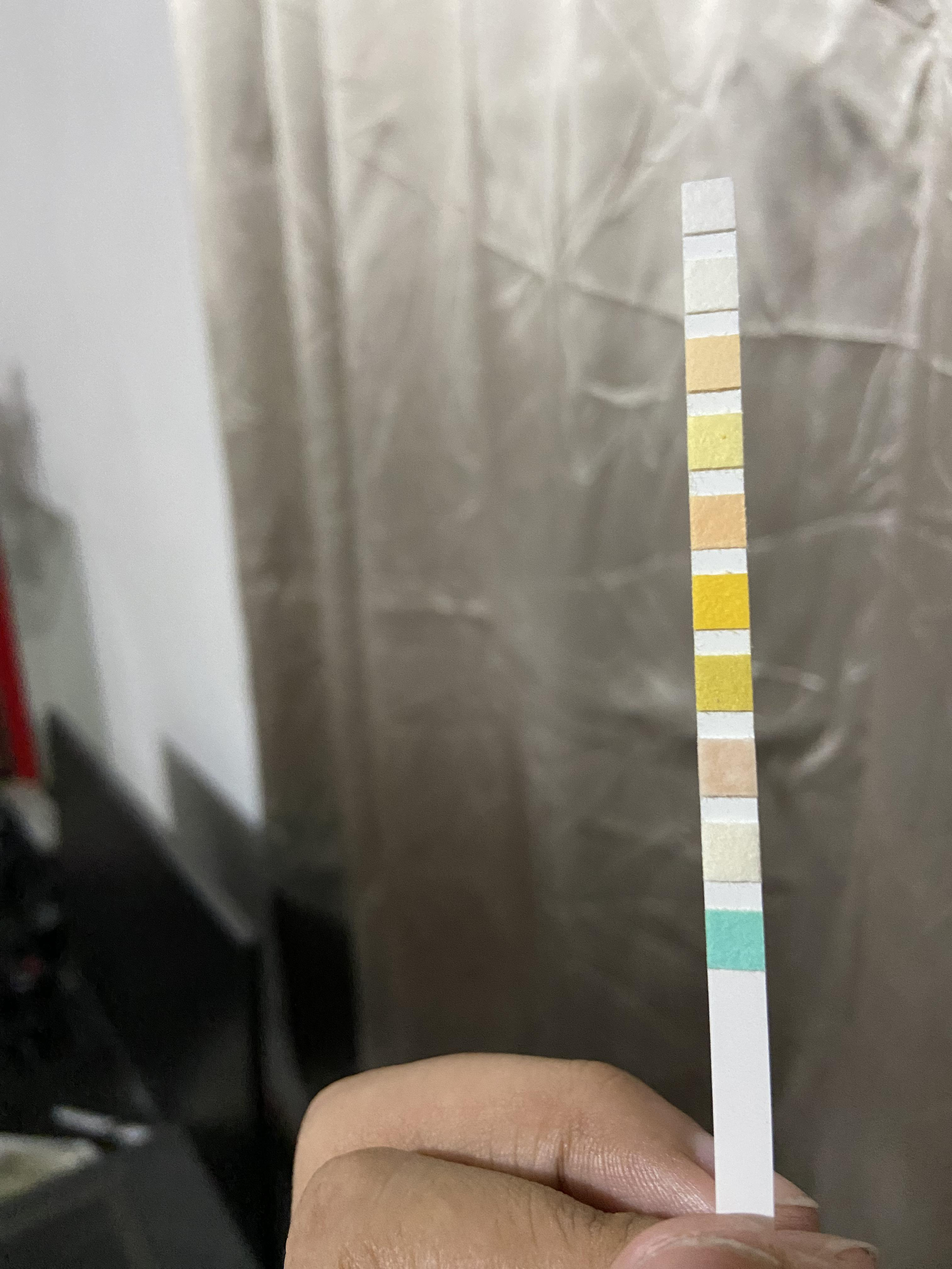Bilirubin: (706, 824, 759, 881)
Blood: (695, 576, 749, 627)
Glucose: (709, 910, 762, 969)
Ketone: (701, 740, 755, 795)
Leukocytes: (683, 183, 733, 229)
Nitrite: (685, 261, 736, 310)
Protein: (689, 416, 742, 466)
SpGravity: (697, 655, 750, 712)
Urobilinogen: (688, 341, 740, 387)
pH: (692, 497, 745, 546)
strip: (684, 176, 774, 1202)
